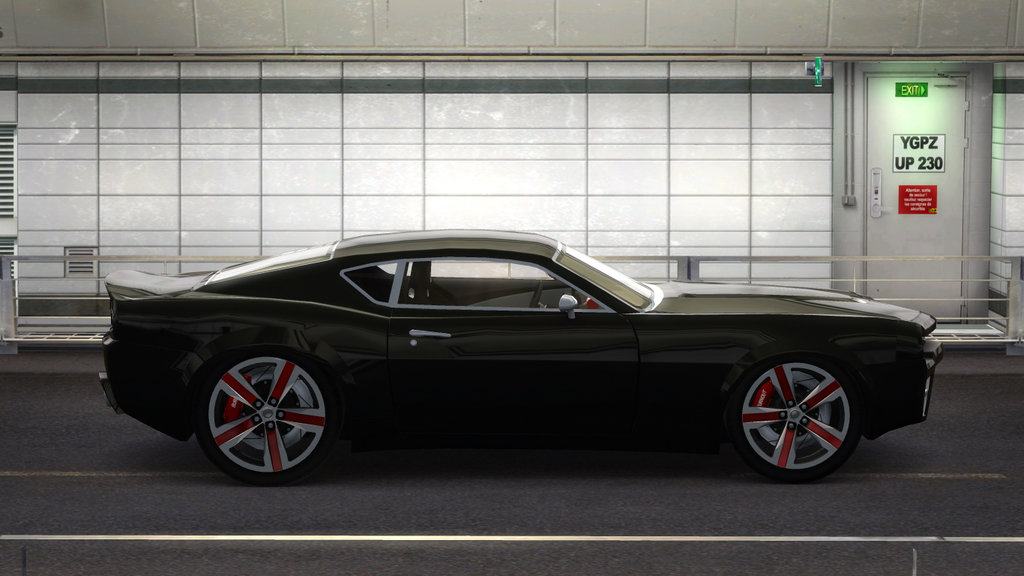cars: (90, 231, 1008, 482)
